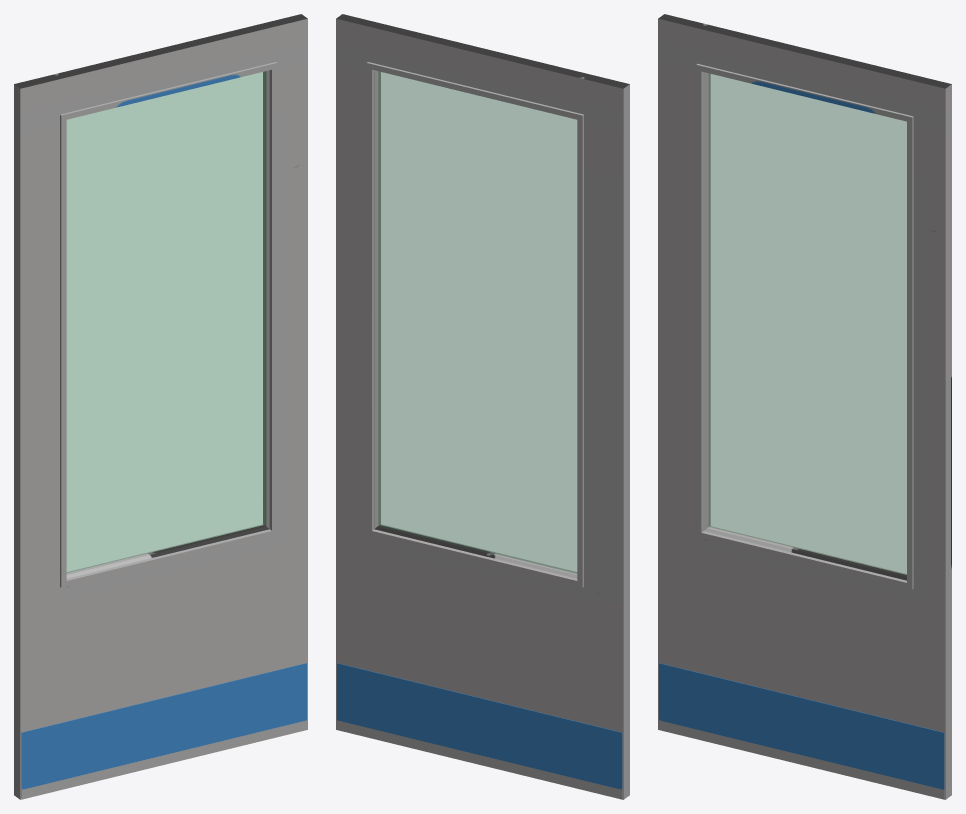
Rendered from SlideDoor.fbx.
The picture shows the model from 3 angles, left to right: view 1: azimuth 30°, elevation 25°; view 2: azimuth 150°, elevation 25°; view 3: azimuth 330°, elevation 25°; orthographic projection.
Visible parts, largest first — view 1: Door, Glass; view 2: Door, Glass; view 3: Door, Glass.
Boxes of the visible parts, x1=… form: Door: x1=14, y1=14, x2=307, y2=799; Glass: x1=67, y1=72, x2=264, y2=572; Door: x1=336, y1=14, x2=629, y2=799; Glass: x1=378, y1=71, x2=576, y2=573; Door: x1=658, y1=14, x2=951, y2=799; Glass: x1=708, y1=73, x2=906, y2=574.
Bounding box in the file's own units: 127 × 300 × 6.93.
